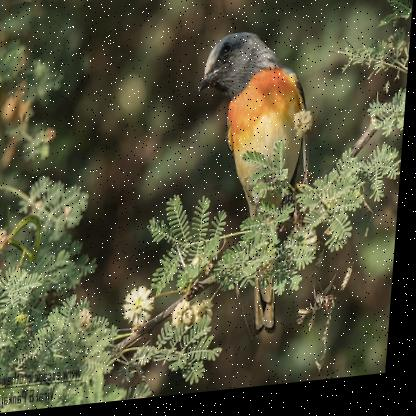Burung: (186, 31, 314, 349)
